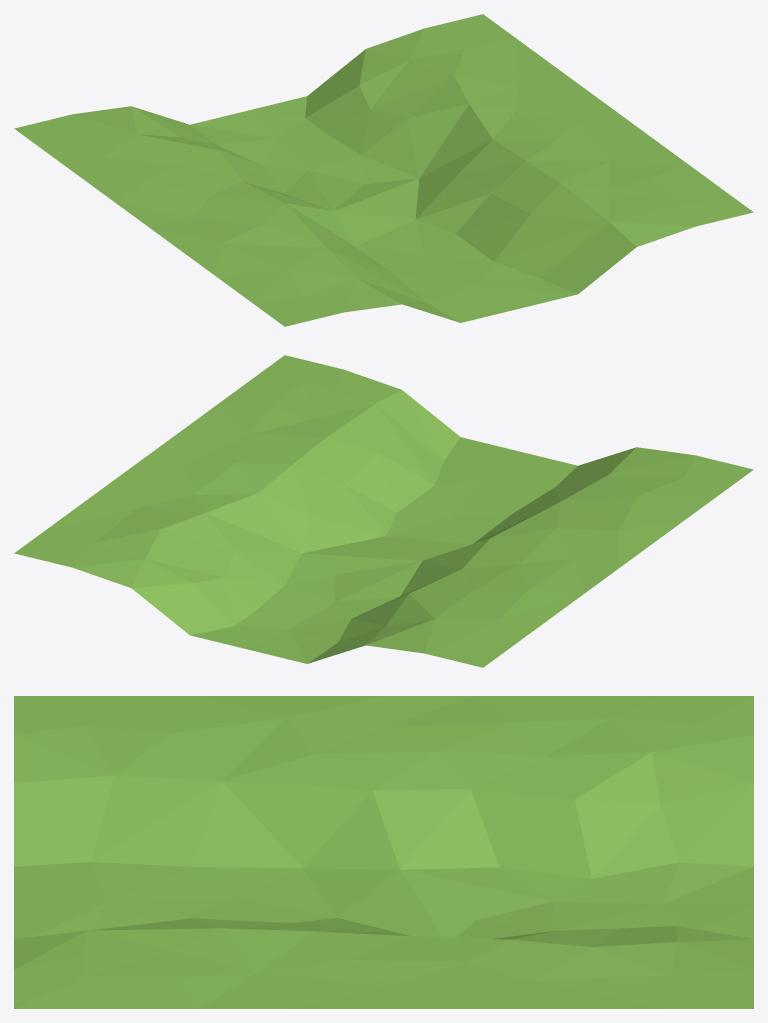
The model's file is MT_River_S_a_01_LOD.fbx.
The picture shows the model from 3 angles, top to bottom: view 1: azimuth 30°, elevation 25°; view 2: azimuth 150°, elevation 25°; view 3: azimuth 270°, elevation 25°; orthographic projection. The views are drawn at different scales.
Visible parts, largest first — view 1: MT_River_S_a_01_LOD0; view 2: MT_River_S_a_01_LOD0; view 3: MT_River_S_a_01_LOD0.
Part boxes in pixels (<box>): MT_River_S_a_01_LOD0: <box>14,14,753,326</box>; MT_River_S_a_01_LOD0: <box>14,355,753,667</box>; MT_River_S_a_01_LOD0: <box>14,696,753,1008</box>.
Size of what is drawn, in the model's own units: 2500 by 226 by 2500.
